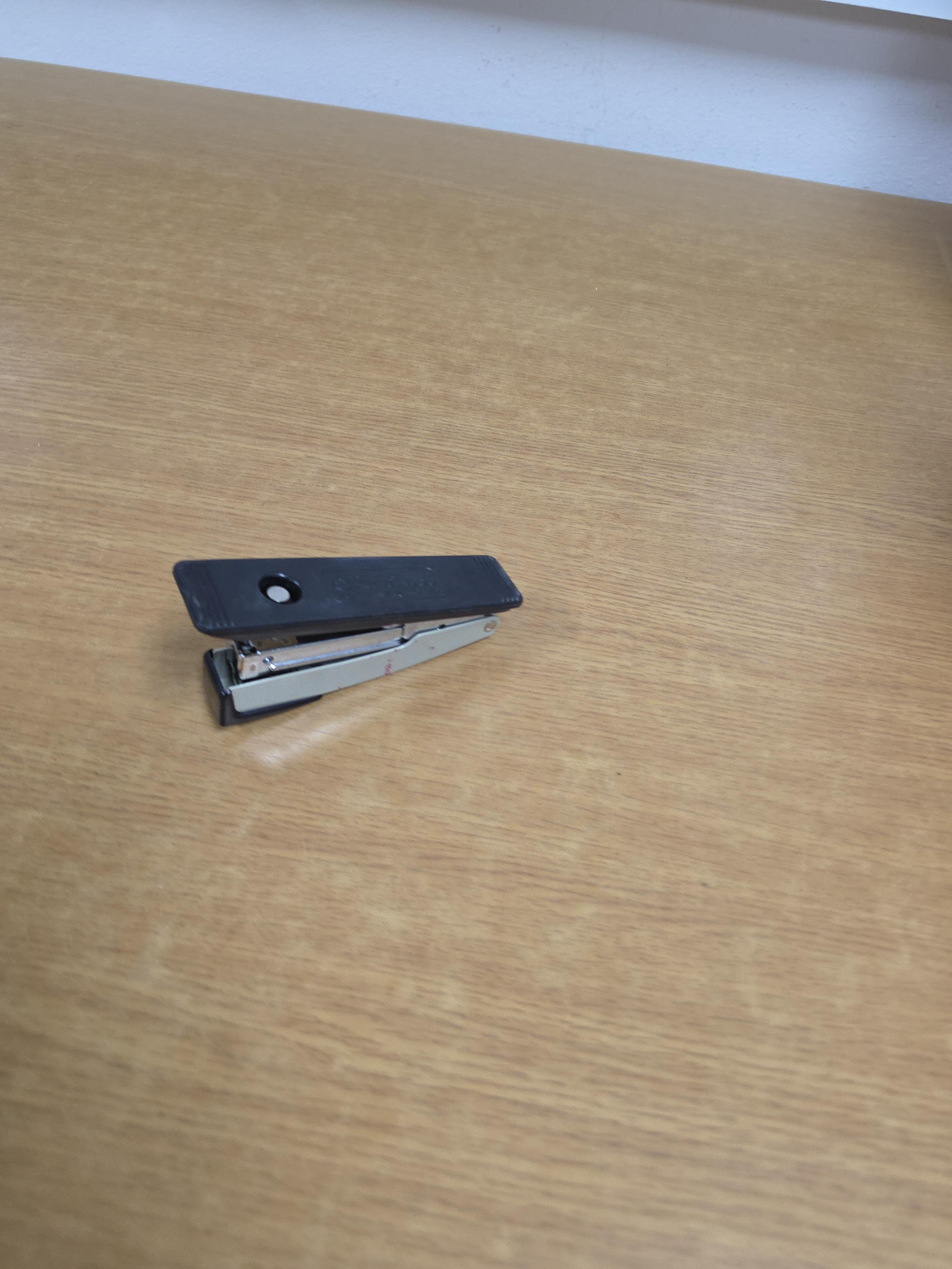stapler: (172, 554, 523, 727)
